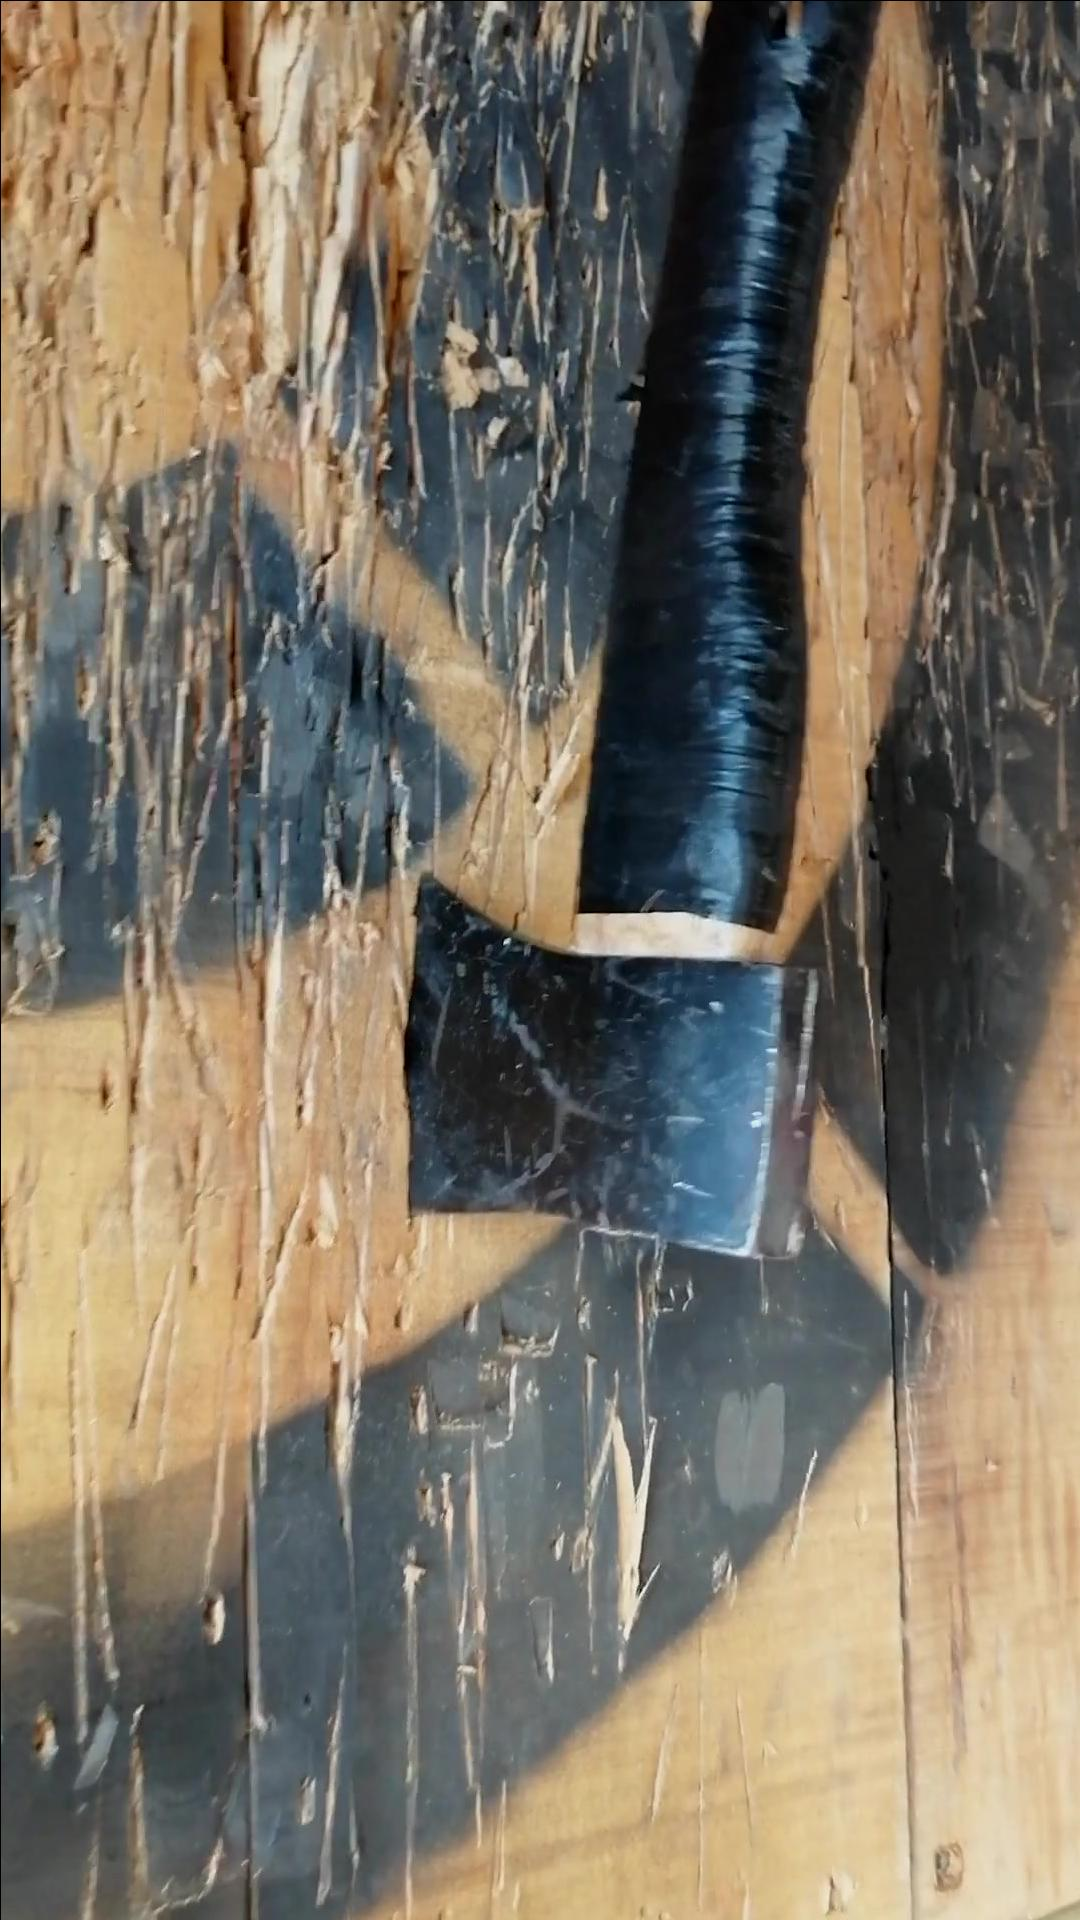Hand Axe: (400, 868, 827, 1270)
